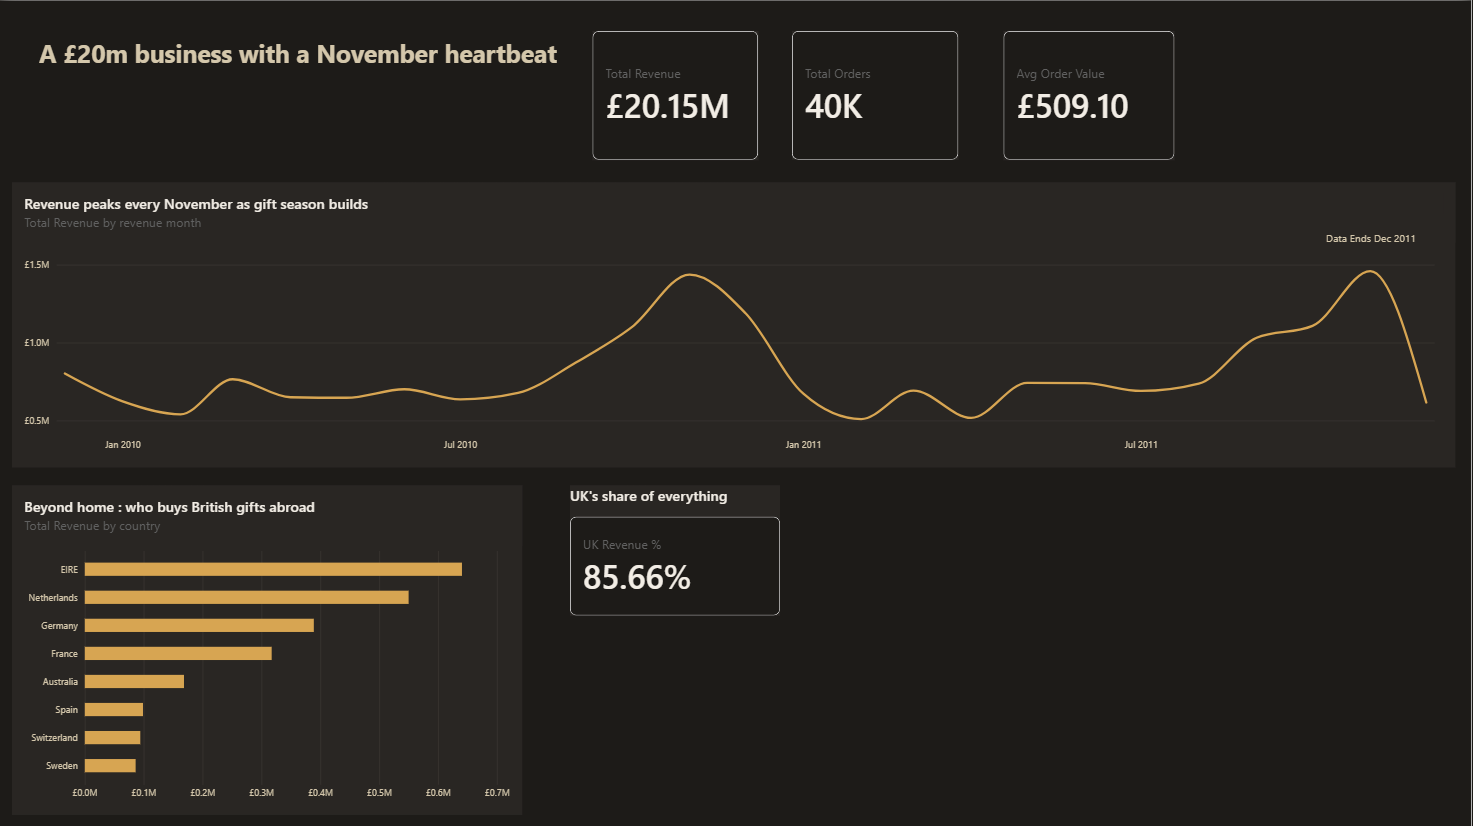

The page's visual inventory and layout, read from the dashboard file:
{"tool":"powerbi","page":{"name":"The heartbeat","canvas":[1920,1080],"ordinal":0},"visuals":[{"type":"lineChart","title":"Revenue peaks every November as gift season builds","fields":{"Category":["fct_monthly_revenue.revenue_month"],"Y":["fct_monthly_revenue.Total Revenue"]},"box":[16,236,1884,372],"z":0},{"type":"cardVisual","fields":{"Data":["fct_monthly_revenue.Total Revenue"]},"box":[774,40,216.7,168.3],"z":1},{"type":"cardVisual","fields":{"Data":["fct_monthly_revenue.Total Orders"]},"box":[1034,40,217,168],"z":2},{"type":"cardVisual","fields":{"Data":["fct_monthly_revenue.Avg Order Value"]},"box":[1310,40,223.3,168.3],"z":3},{"type":"textbox","box":[1730,300,126.7,24.4],"z":4},{"type":"clusteredBarChart","title":"Beyond home : who buys British gifts abroad","fields":{"Category":["fct_monthly_revenue.country"],"Y":["fct_monthly_revenue.Total Revenue"]},"box":[16,632,666,430],"z":5},{"type":"cardVisual","title":"UK''s share of everything","fields":{"Data":["fct_monthly_revenue.UK Revenue %"]},"box":[744,632,274,170],"z":6},{"type":"textbox","box":[50,18,694,86],"z":7}]}

Visuals, with their boxes in screenshot pixels (x1, y1, x2, y2), scaled from the page's 1920x1080 canvas onto the 1473x826 screenshot:
"Revenue peaks every November as gift season builds" lineChart: x1=12 y1=180 x2=1458 y2=465
cardVisual - fct_monthly_revenue.Total Revenue: x1=594 y1=31 x2=760 y2=159
cardVisual - fct_monthly_revenue.Total Orders: x1=793 y1=31 x2=960 y2=159
cardVisual - fct_monthly_revenue.Avg Order Value: x1=1005 y1=31 x2=1176 y2=159
textbox: x1=1327 y1=229 x2=1424 y2=248
"Beyond home : who buys British gifts abroad" clusteredBarChart: x1=12 y1=483 x2=523 y2=812
"UK''s share of everything" cardVisual: x1=571 y1=483 x2=781 y2=613
textbox: x1=38 y1=14 x2=571 y2=80
